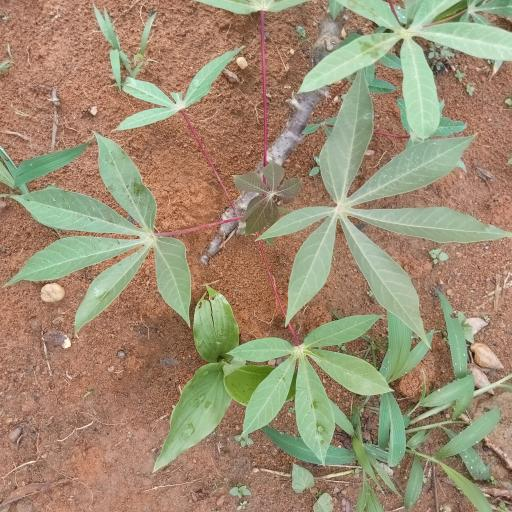Cassava_Mosaic: (270, 81, 484, 331)
